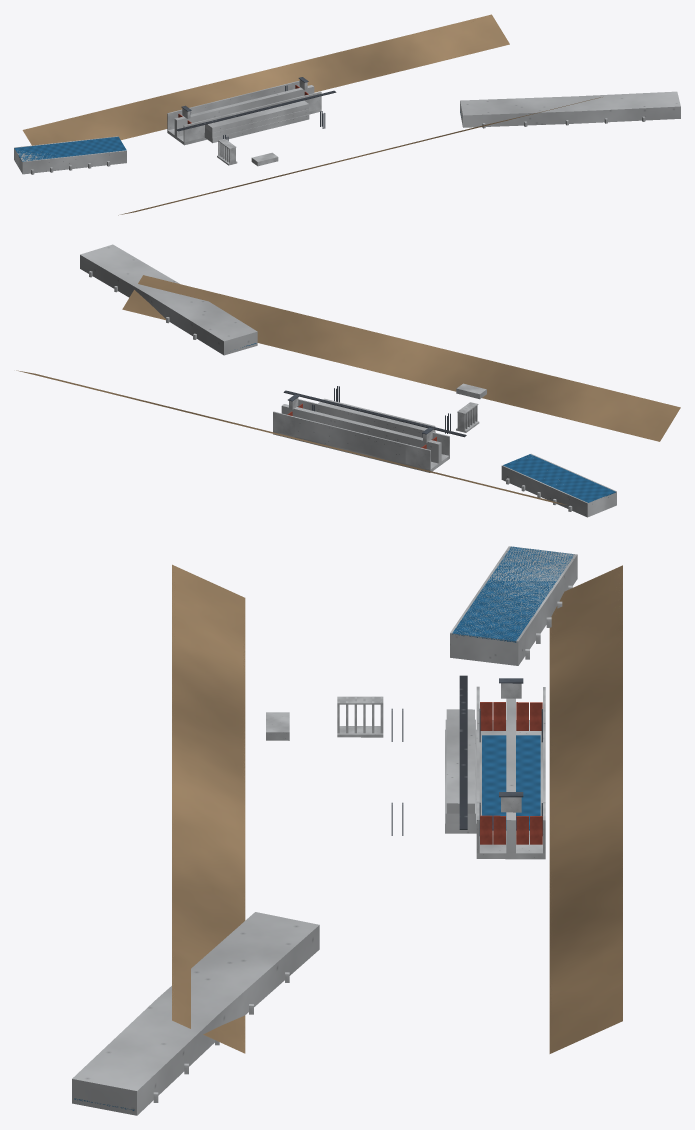
File: qishi-low.glb
3 renders of one model, top to bottom at view 1: azimuth 30°, elevation 25°; view 2: azimuth 150°, elevation 25°; view 3: azimuth 270°, elevation 25°, orthographic. The views are drawn at different scales.
Parts seen in each view (by area): view 1: QIS_TERRAIN_slope_L_01, QIS_WAY_apron_dn_01, QIS_WAY_apron_up_01, QIS_WAY_water_up_01, QIS_LOCK_middike_01, QIS_POOL_step_03, QIS_TERRAIN_slope_R_01, QIS_LOCK_wallL_chamber_01, QIS_POOL_step_02, QIS_POOL_step_01, QIS_SITE_road_01, QIS_LOCK_wallR_head_up_01; view 2: QIS_TERRAIN_slope_R_01, QIS_WAY_apron_dn_01, QIS_LOCK_wallL_chamber_01, QIS_WAY_water_up_01, QIS_WAY_apron_up_01, QIS_LOCK_middike_01, QIS_TERRAIN_slope_L_01, QIS_LOCK_wallR_chamber_01, QIS_SITE_road_01, QIS_POOL_step_03, QIS_LOCK_wallL_head_up_01, QIS_LOCK_wallL_head_dn_01; view 3: QIS_TERRAIN_slope_L_01, QIS_TERRAIN_slope_R_01, QIS_WAY_apron_dn_01, QIS_WAY_apron_up_01, QIS_WAY_water_up_01, QIS_LOCK_water_chamber_01, QIS_POOL_step_03, QIS_SITE_road_01, QIS_LOCK_middike_01, QIS_LOCK_slab_head_dn_01.
Part boxes in pixels (bbox=[...]): QIS_TERRAIN_slope_L_01: bbox=[22, 14, 509, 145]; QIS_WAY_apron_dn_01: bbox=[460, 91, 680, 127]; QIS_WAY_apron_up_01: bbox=[14, 136, 126, 174]; QIS_WAY_water_up_01: bbox=[14, 136, 126, 161]; QIS_LOCK_middike_01: bbox=[174, 85, 314, 136]; QIS_POOL_step_03: bbox=[205, 100, 308, 132]; QIS_TERRAIN_slope_R_01: bbox=[118, 97, 602, 215]; QIS_LOCK_wallL_chamber_01: bbox=[189, 84, 286, 114]; QIS_POOL_step_02: bbox=[205, 109, 309, 137]; QIS_POOL_step_01: bbox=[204, 114, 309, 143]; QIS_SITE_road_01: bbox=[176, 90, 336, 131]; QIS_LOCK_wallR_head_up_01: bbox=[183, 120, 205, 142]; QIS_TERRAIN_slope_R_01: bbox=[122, 275, 680, 441]; QIS_WAY_apron_dn_01: bbox=[80, 244, 257, 355]; QIS_LOCK_wallL_chamber_01: bbox=[294, 417, 405, 463]; QIS_WAY_water_up_01: bbox=[503, 454, 615, 502]; QIS_WAY_apron_up_01: bbox=[501, 453, 616, 517]; QIS_LOCK_middike_01: bbox=[281, 404, 441, 463]; QIS_TERRAIN_slope_L_01: bbox=[16, 370, 566, 504]; QIS_LOCK_wallR_chamber_01: bbox=[313, 403, 424, 437]; QIS_SITE_road_01: bbox=[283, 390, 466, 437]; QIS_POOL_step_03: bbox=[318, 398, 435, 432]; QIS_LOCK_wallL_head_up_01: bbox=[405, 444, 430, 469]; QIS_LOCK_wallL_head_dn_01: bbox=[273, 411, 294, 436]; QIS_TERRAIN_slope_L_01: bbox=[549, 565, 622, 1053]; QIS_TERRAIN_slope_R_01: bbox=[172, 564, 245, 1053]; QIS_WAY_apron_dn_01: bbox=[72, 912, 319, 1115]; QIS_WAY_apron_up_01: bbox=[450, 546, 577, 665]; QIS_WAY_water_up_01: bbox=[452, 546, 573, 642]; QIS_LOCK_water_chamber_01: bbox=[482, 735, 540, 830]; QIS_POOL_step_03: bbox=[446, 709, 474, 813]; QIS_SITE_road_01: bbox=[459, 675, 467, 829]; QIS_LOCK_middike_01: bbox=[506, 698, 515, 853]; QIS_LOCK_slab_head_dn_01: bbox=[476, 835, 545, 859].
Bounding box in the file's own units: 1636 × 78.84 × 695.
6 materials, 6 textured.
